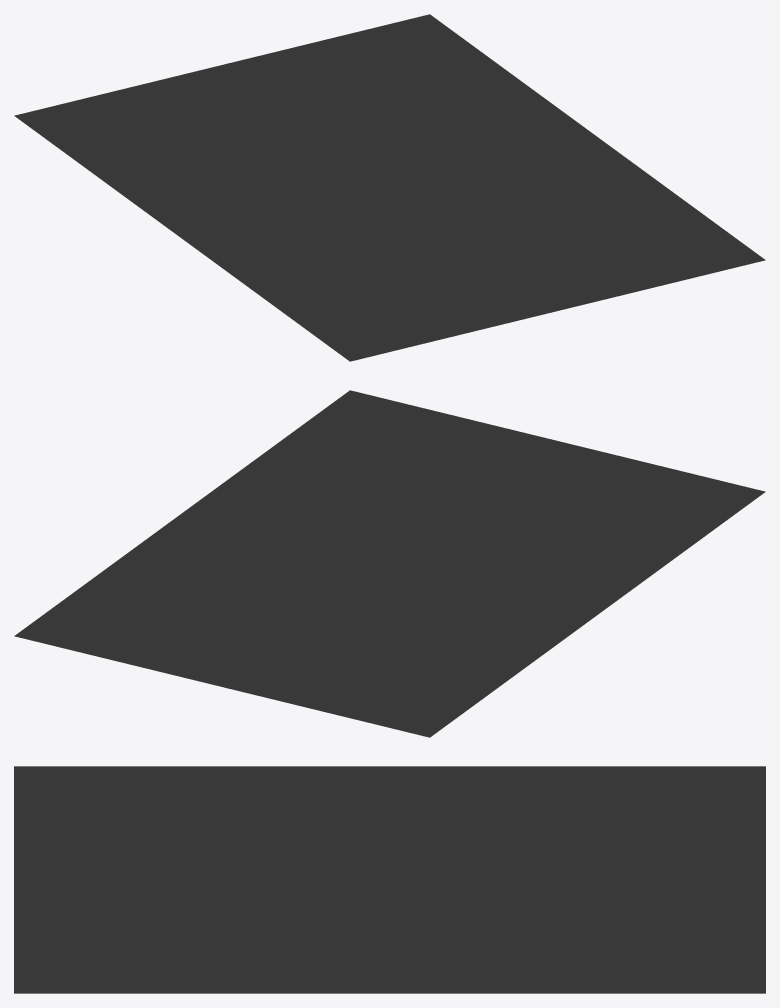
The model's file is Orellian_Floor.fbx.
3 renders of one model, top to bottom at view 1: azimuth 30°, elevation 25°; view 2: azimuth 150°, elevation 25°; view 3: azimuth 270°, elevation 25°, orthographic. The views are drawn at different scales.
Parts seen in each view (by area): view 1: Orellian_Floor; view 2: Orellian_Floor; view 3: Orellian_Floor.
Boxes of the visible parts, box(x1,y1,x2,y2) form: Orellian_Floor: box(14, 14, 765, 361); Orellian_Floor: box(14, 390, 765, 737); Orellian_Floor: box(14, 766, 765, 993).
Bounding box in the file's own units: 5.96 × 0 × 8.34.
